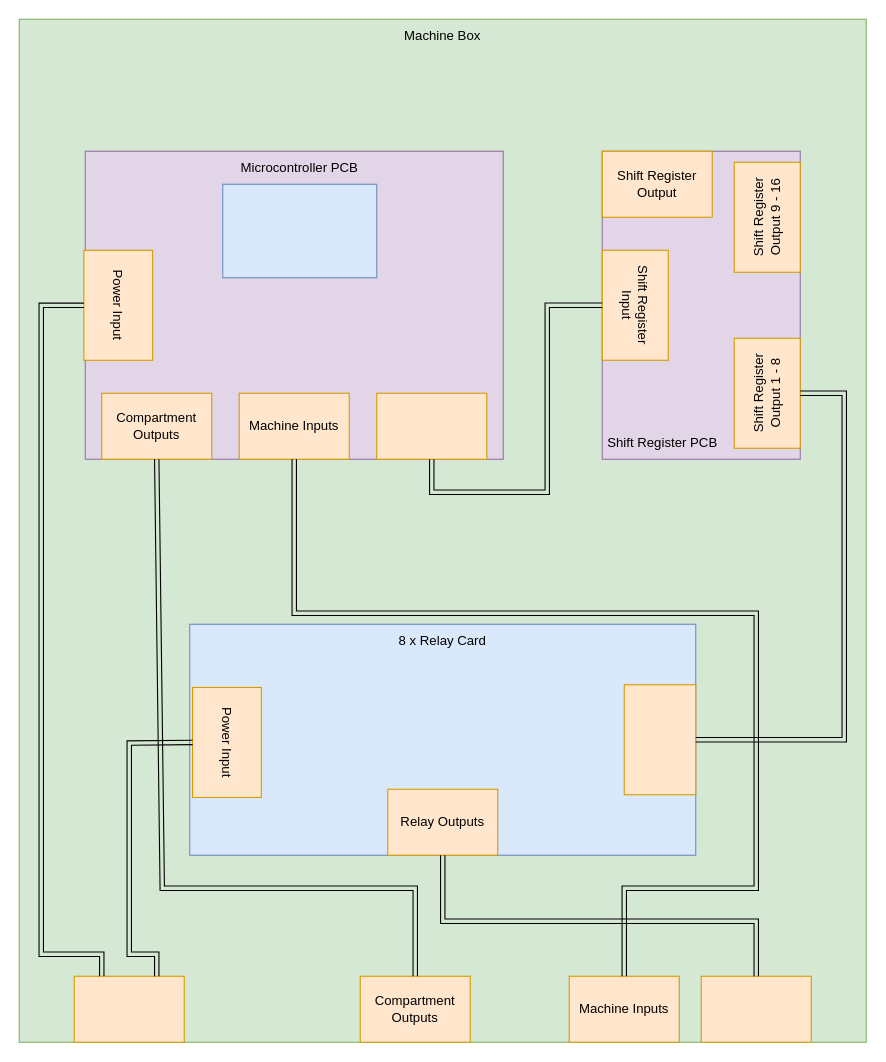
Image size: 886x1062. Some labels were removed from this diagram. Each missing label, with the box of its shape:
Machine Output Relays: (700, 975, 811, 1042)
Machine Outputs: (376, 392, 487, 459)
Microcontroller: (222, 183, 377, 278)
Power Input +5VDC: (73, 975, 184, 1042)
Relay Inputs: (623, 684, 696, 795)
